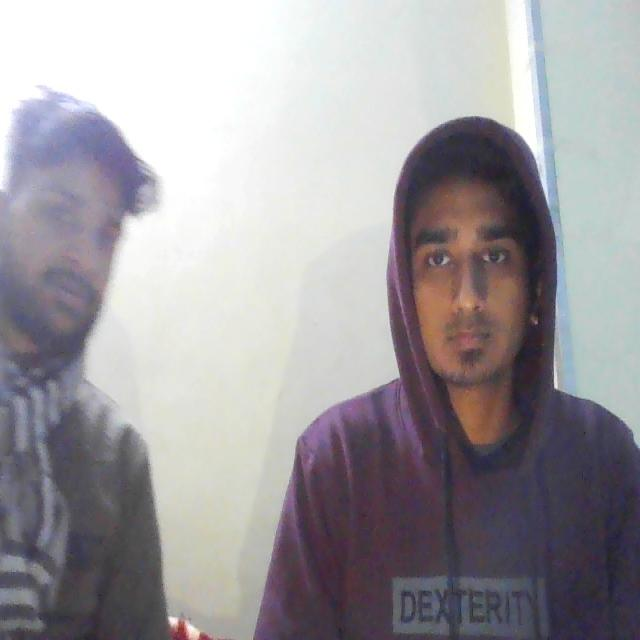real: (390, 99, 559, 417), (0, 84, 142, 353)
